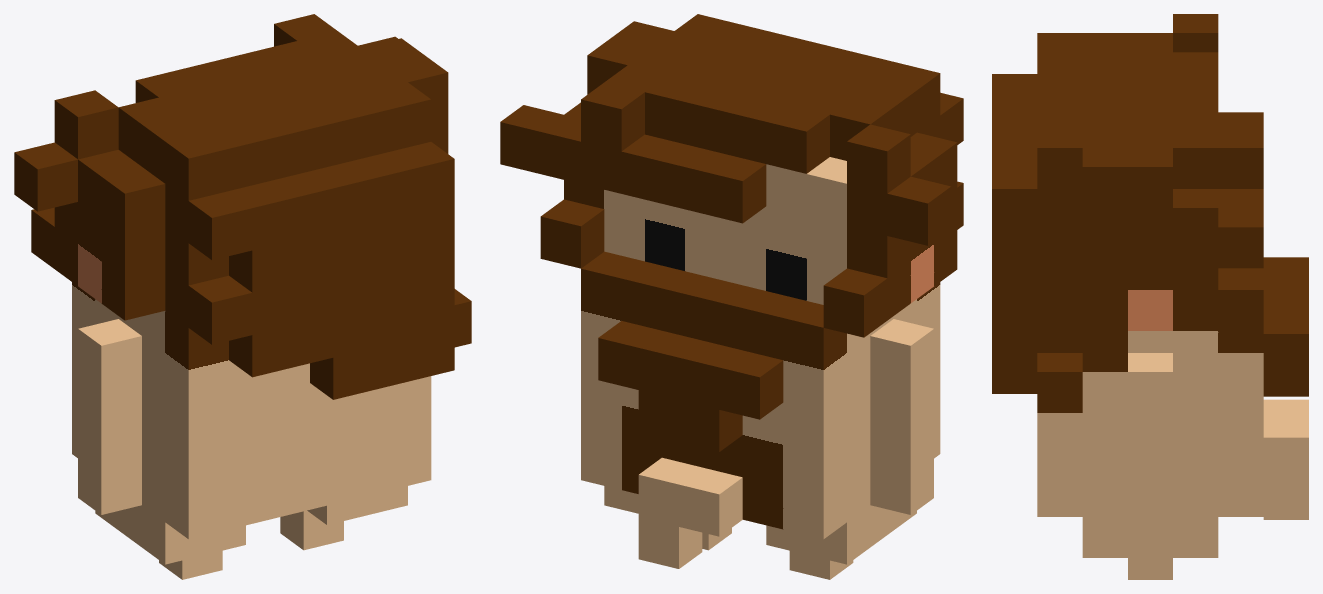
Rendered from chr_naked2.fbx.
3 renders of one model, left to right at view 1: azimuth 30°, elevation 25°; view 2: azimuth 150°, elevation 25°; view 3: azimuth 270°, elevation 25°, orthographic. The views are drawn at different scales.
Parts seen in each view (by area): view 1: chr_naked2; view 2: chr_naked2; view 3: chr_naked2.
Boxes of the visible parts, x1,y1,x2,y2 form: chr_naked2: [14, 14, 471, 579]; chr_naked2: [500, 14, 963, 579]; chr_naked2: [992, 14, 1308, 579].
Bounding box in the file's own units: 1 × 0.7 × 1.1.
Materials: 1 (1 with a texture image).
